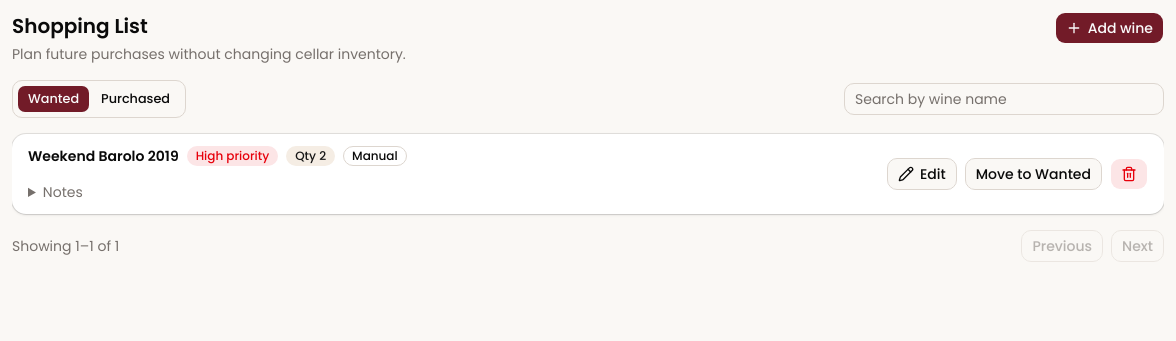
Test case: CellarShoppingList › shows restore failures inline and suppresses unsafe retailer schemes
Click the button "Move to Wanted": (1033, 174) x1=965 y1=158 x2=1102 y2=190
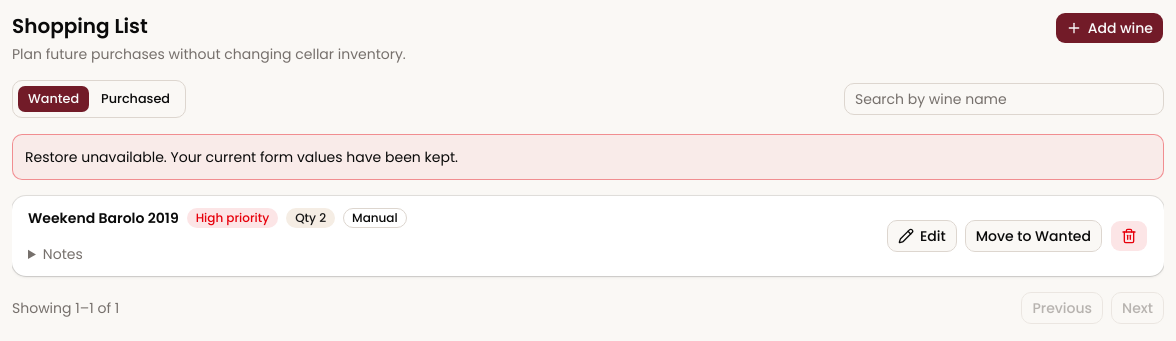
Expected: the message shows "Restore unavailable", x1=25 y1=147 x2=458 y2=167
